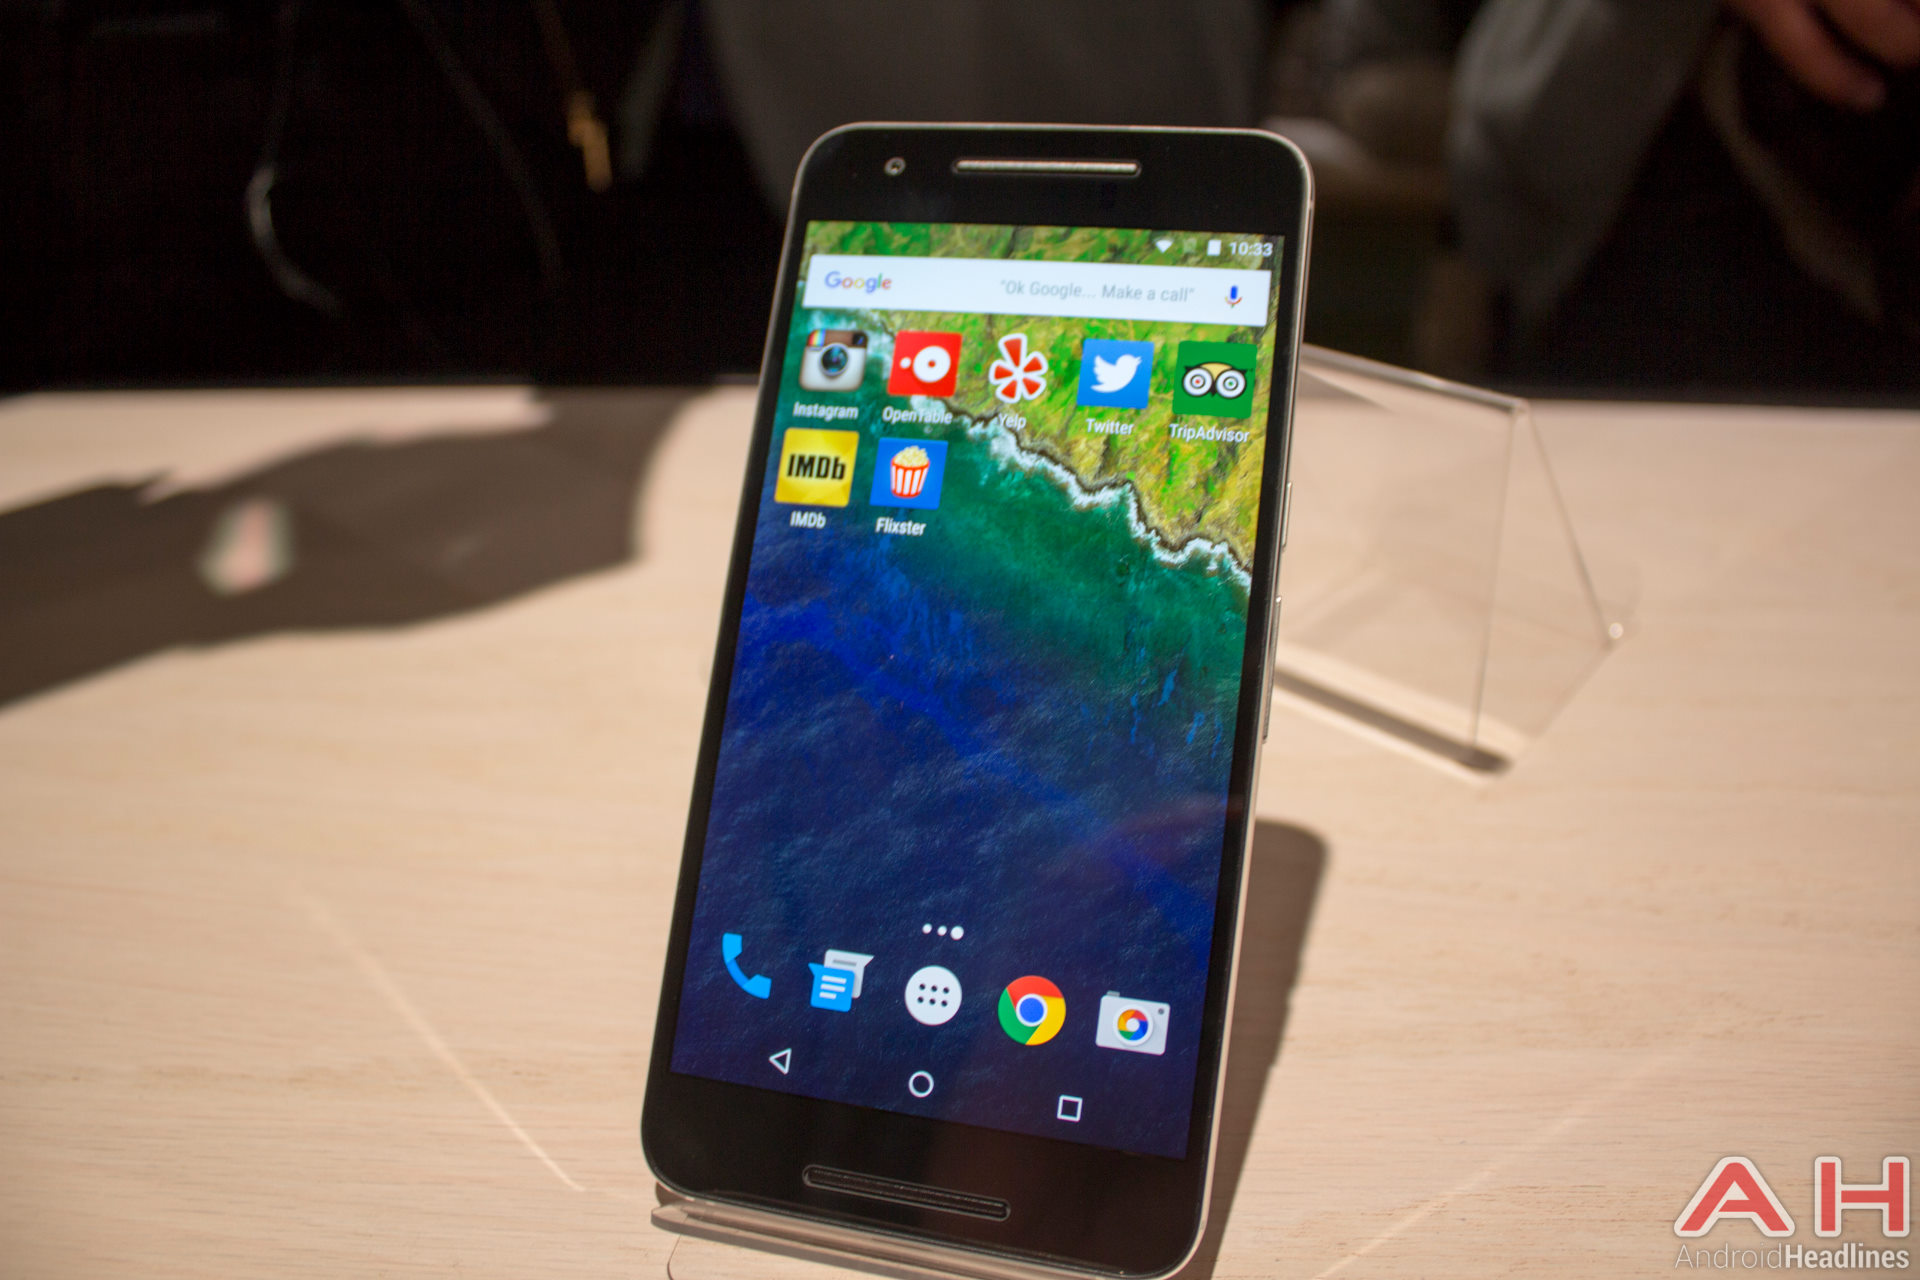smartphone: (639, 120, 1317, 1280)
